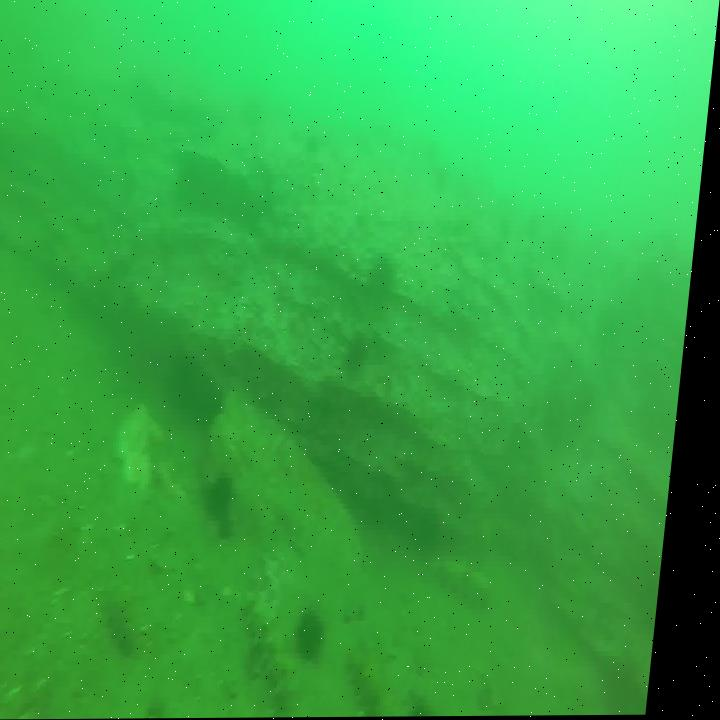echinus: (305, 602, 344, 667), (372, 255, 405, 321), (349, 328, 385, 383), (216, 470, 248, 531)
holothurian: (246, 584, 318, 718), (102, 571, 158, 662), (354, 635, 404, 718), (440, 554, 507, 613)
